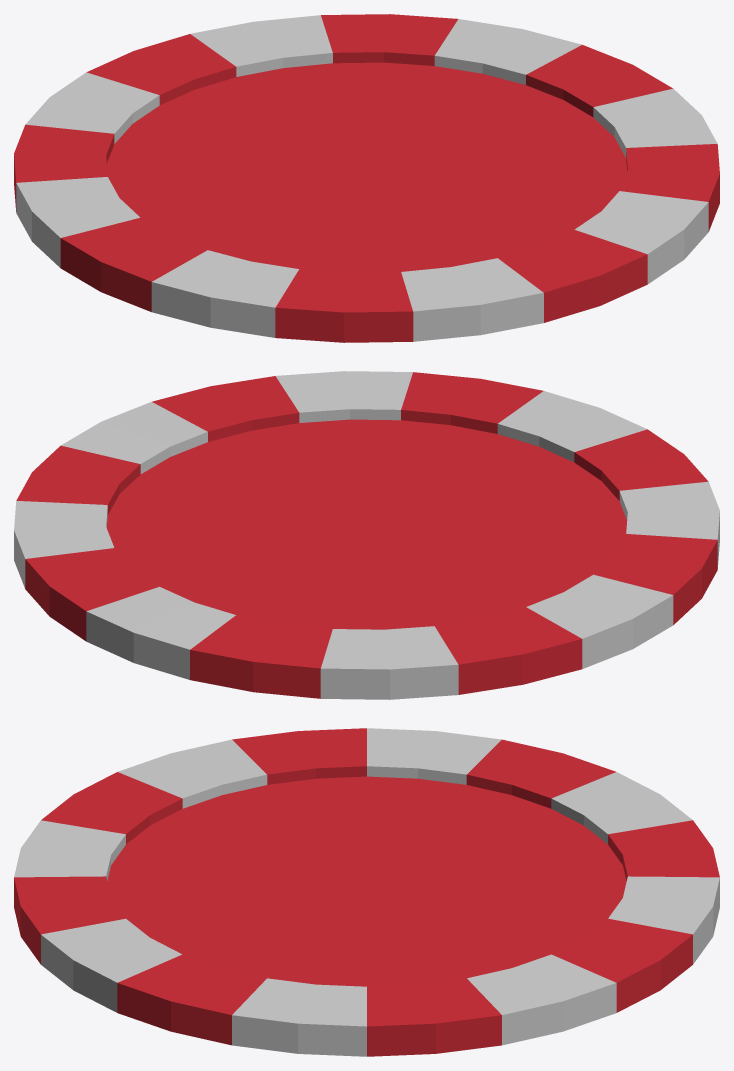
Rendered from PokerChipRed2.fbx.
The picture shows the model from 3 angles, top to bottom: view 1: azimuth 30°, elevation 25°; view 2: azimuth 150°, elevation 25°; view 3: azimuth 270°, elevation 25°; orthographic projection.
Parts seen in each view (by area): view 1: Cylinder; view 2: Cylinder; view 3: Cylinder.
Boxes of the visible parts, bbox=[...] form: Cylinder: bbox=[14, 14, 719, 342]; Cylinder: bbox=[14, 371, 719, 699]; Cylinder: bbox=[14, 728, 719, 1056].
Size of the model in its own units: 2 by 0.0974 by 2.
